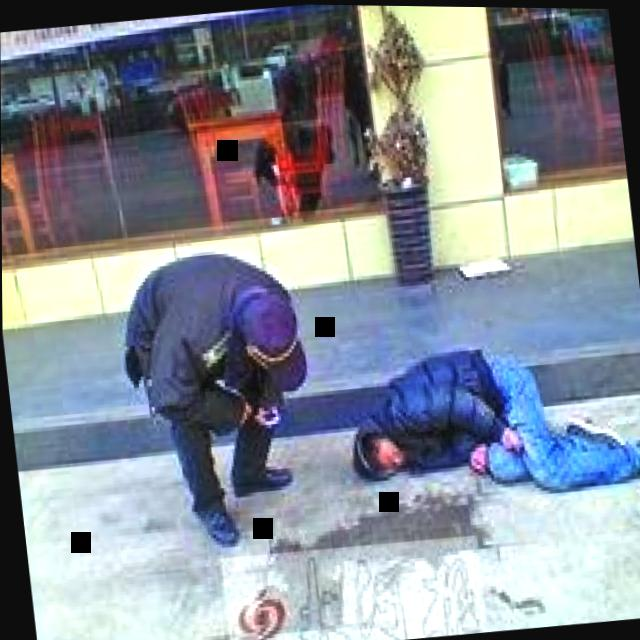Fall-Detected: (324, 296, 640, 530)
